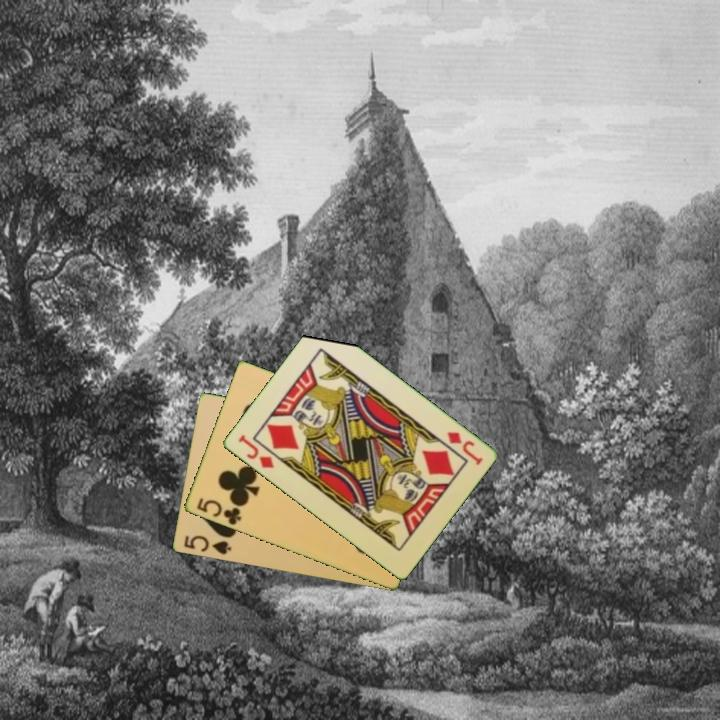5c: (193, 494, 244, 528)
5s: (180, 532, 234, 558)
Jd: (234, 431, 276, 471), (443, 428, 485, 468)
